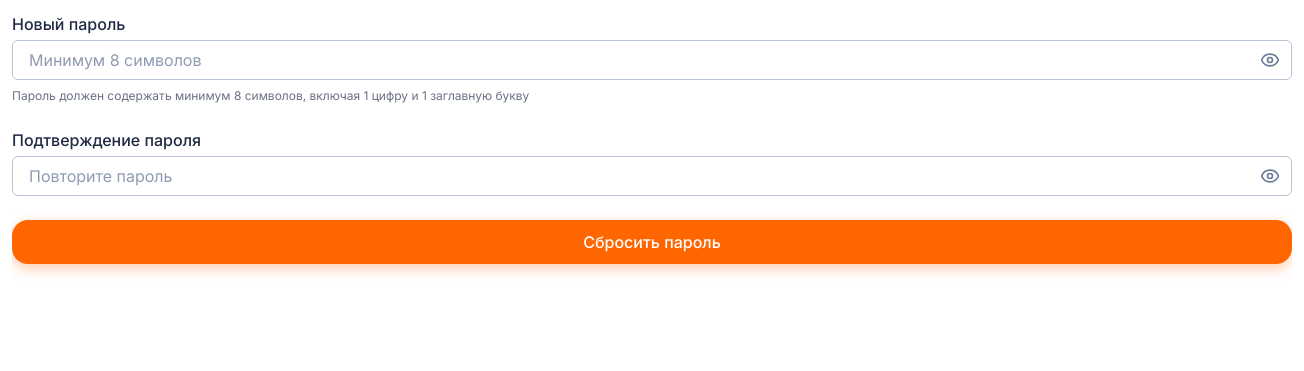
Test: PasswordResetConfirmForm › Error Handling › should show error for expired token during confirmation (410)
Type "NewSecurePass123" into the password field labelled "Новый пароль" at (652, 60), box [12,40,1292,80]
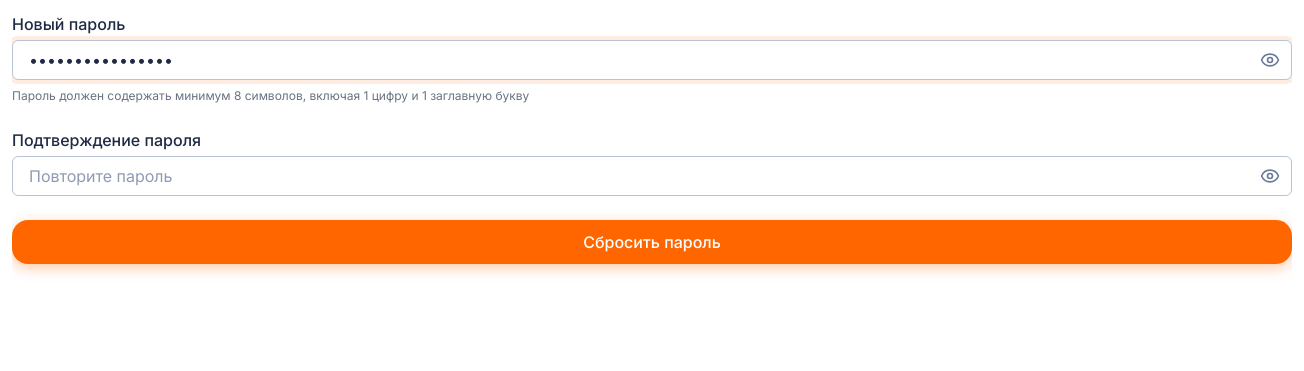
Type "NewSecurePass123" into the password field labelled "Подтверждение пароля" at (652, 176), box [12,156,1292,196]
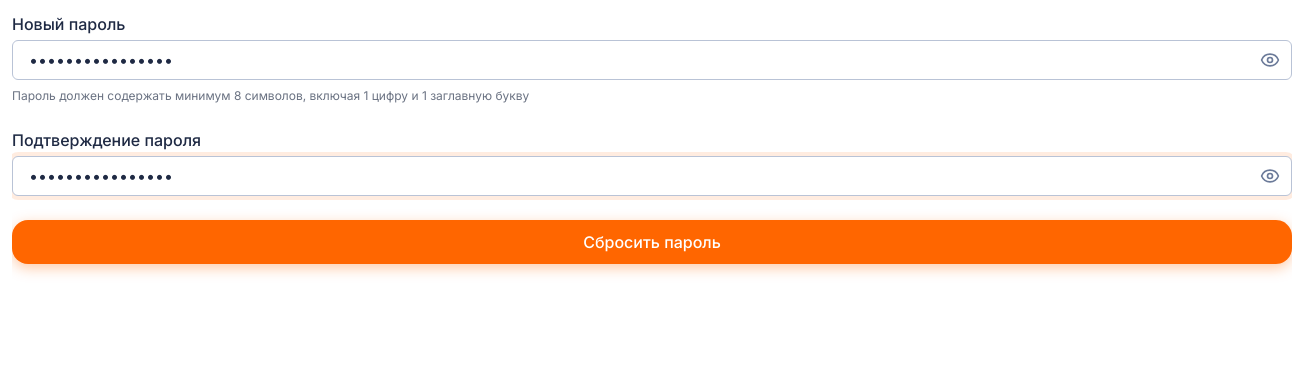
Click the button "Сбросить пароль" at (652, 242), box [12,220,1292,264]
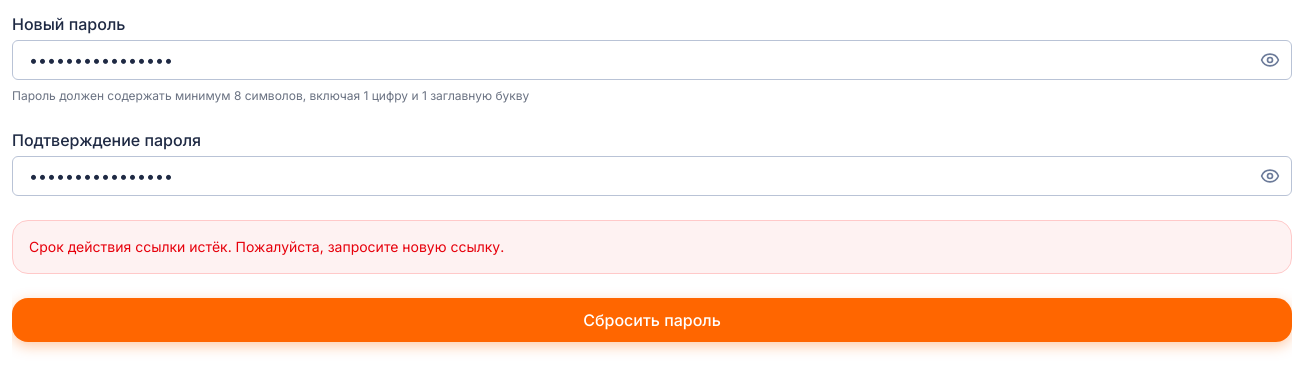
Check: the text "Срок действия ссылки истёк. Пожалуйста, запросите новую ссылку." is shown, box [12,220,1292,274]
